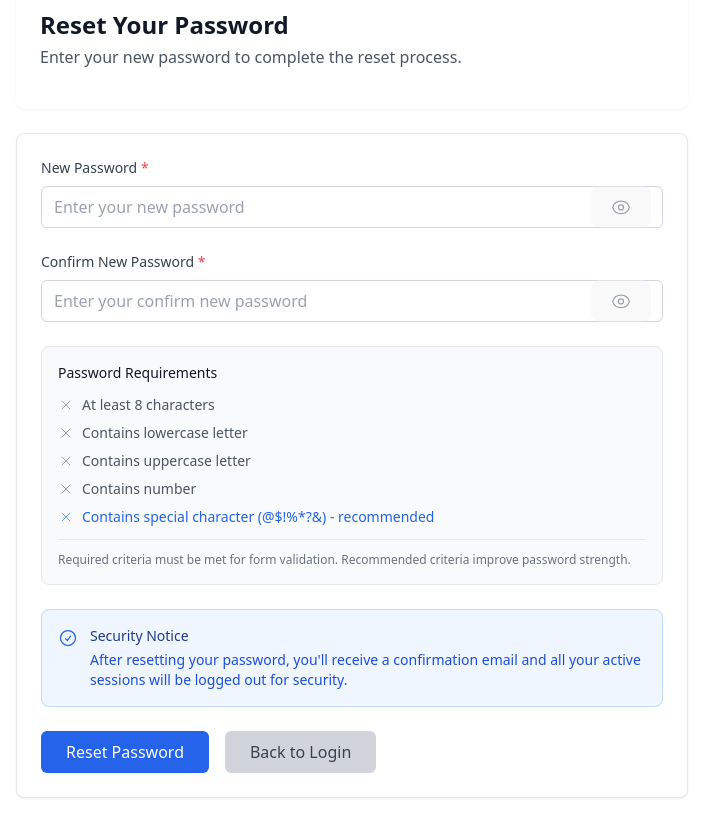
it: ResetPassword page › Form Submission › shows loading state during submission
Type "NewPassword123!" into the password field with placeholder "Enter your new password" at (352, 207), box x1=41 y1=186 x2=663 y2=228
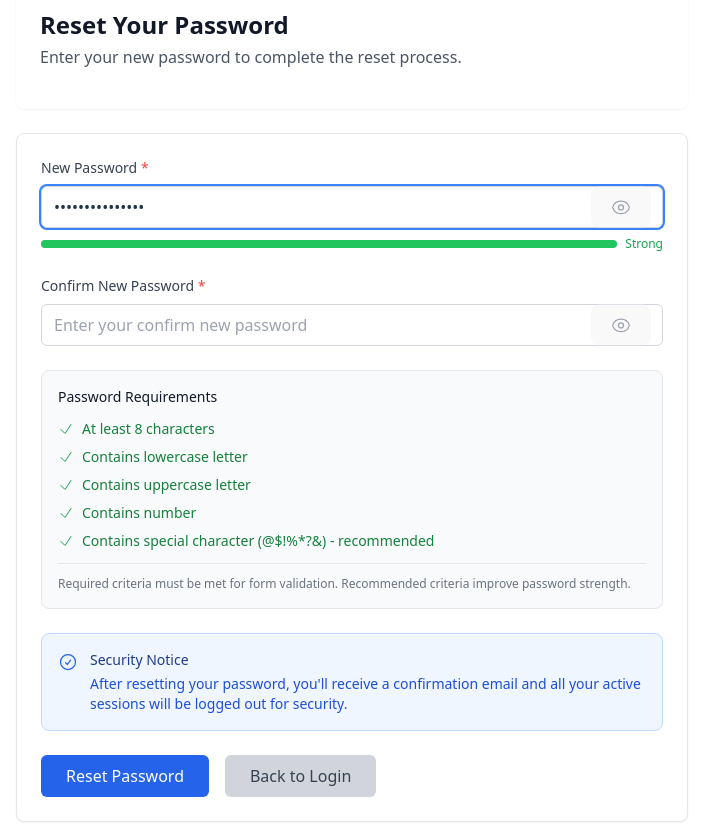
Type "NewPassword123!" into the password field with placeholder "Enter your confirm new password" at (352, 325), box x1=41 y1=304 x2=663 y2=346
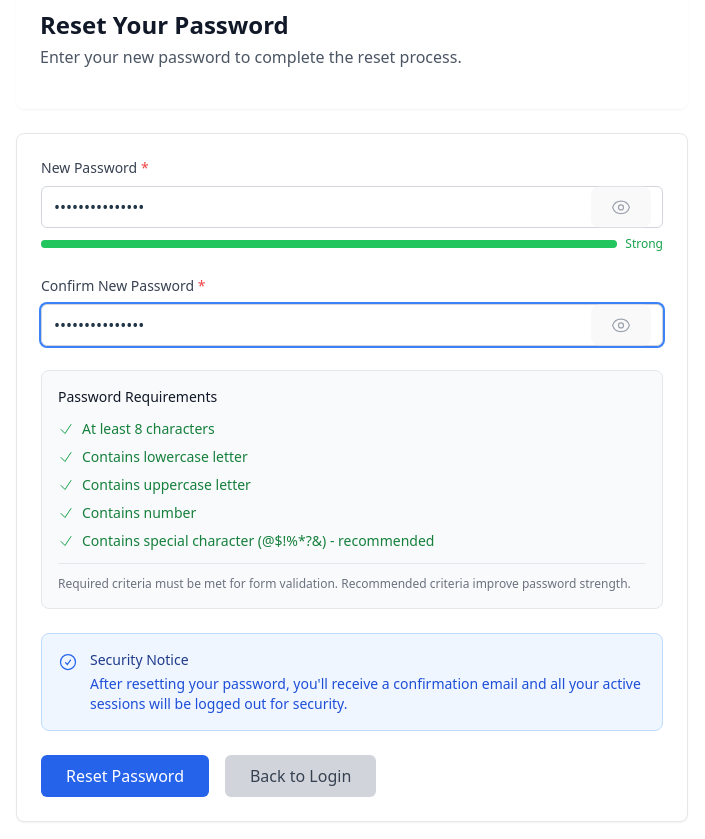
Click the button "Reset Password" at (125, 776), box x1=41 y1=755 x2=209 y2=797
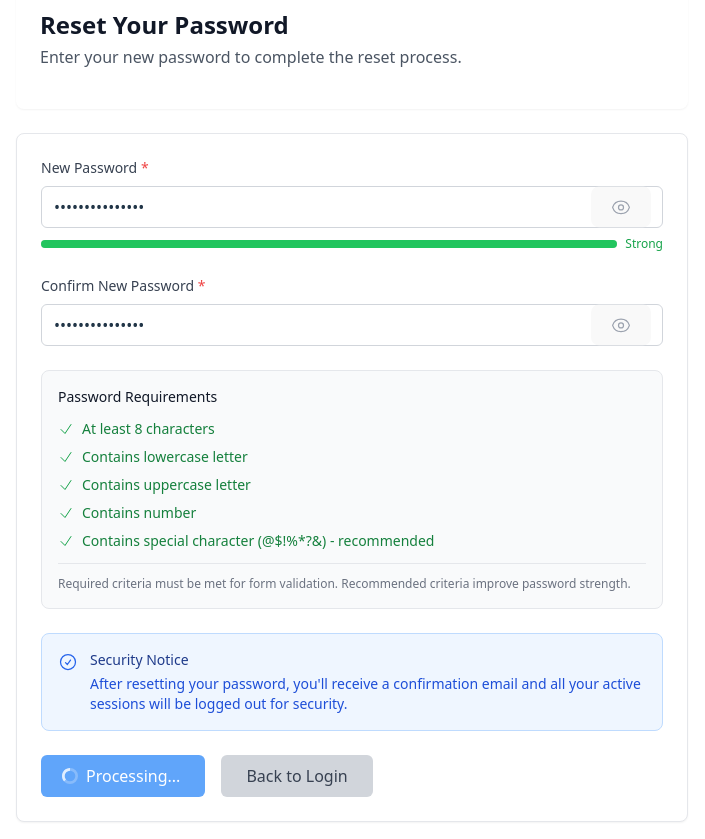
Now the button named "reset password" is disabled, box x1=41 y1=755 x2=205 y2=797
